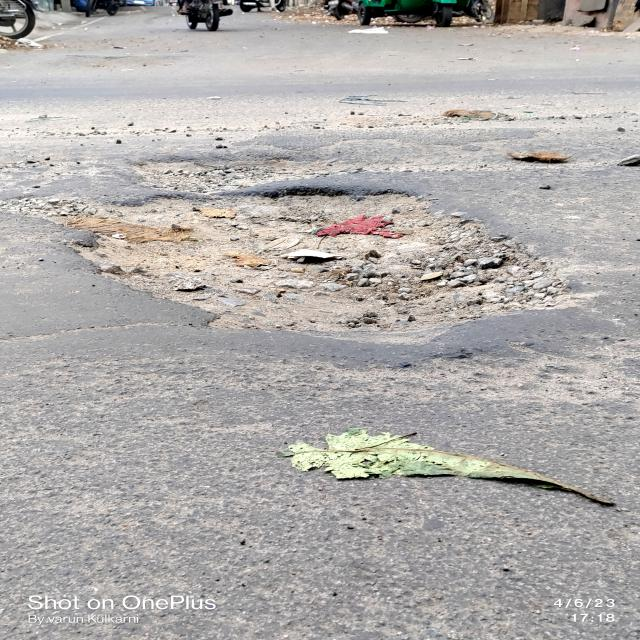potholes: (2, 146, 606, 334)
